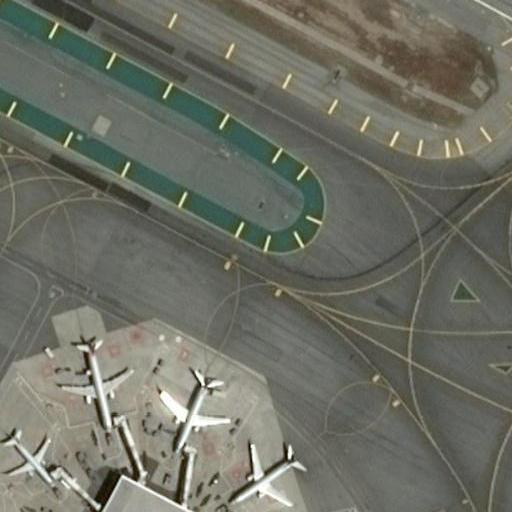Aircraft: (222, 434, 307, 512), (155, 364, 230, 452), (58, 332, 121, 421)
